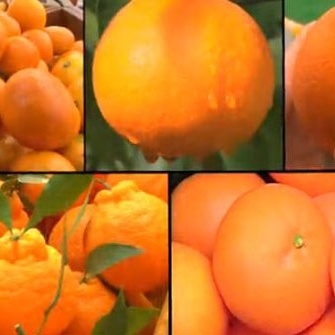mandarin: (90, 1, 275, 158), (214, 183, 330, 335), (1, 67, 80, 150), (1, 36, 41, 79), (8, 149, 76, 171), (6, 1, 49, 32), (51, 51, 83, 88), (20, 30, 53, 65), (1, 15, 21, 57), (48, 27, 75, 51)
